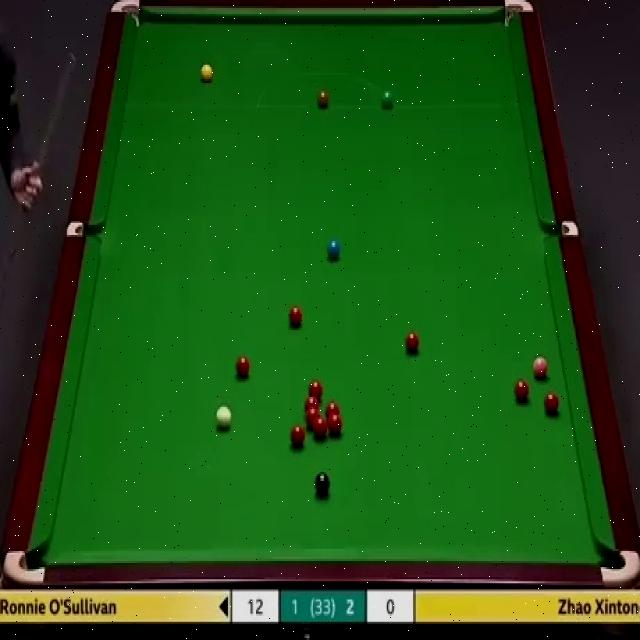black-ball: (315, 470, 330, 498)
blue-ball: (326, 238, 342, 259)
brown-ball: (316, 89, 329, 109)
green-ball: (382, 91, 394, 108)
pink-ball: (533, 354, 548, 380)
red-ball: (234, 354, 252, 382), (542, 392, 559, 418), (288, 424, 305, 448), (515, 379, 532, 403), (327, 414, 343, 438), (406, 330, 420, 355), (288, 306, 303, 328), (313, 416, 327, 439), (307, 380, 324, 397), (306, 409, 320, 428), (304, 395, 319, 412), (326, 404, 340, 417)
white-ball: (214, 404, 231, 430)
yellow-ball: (201, 64, 214, 85)
